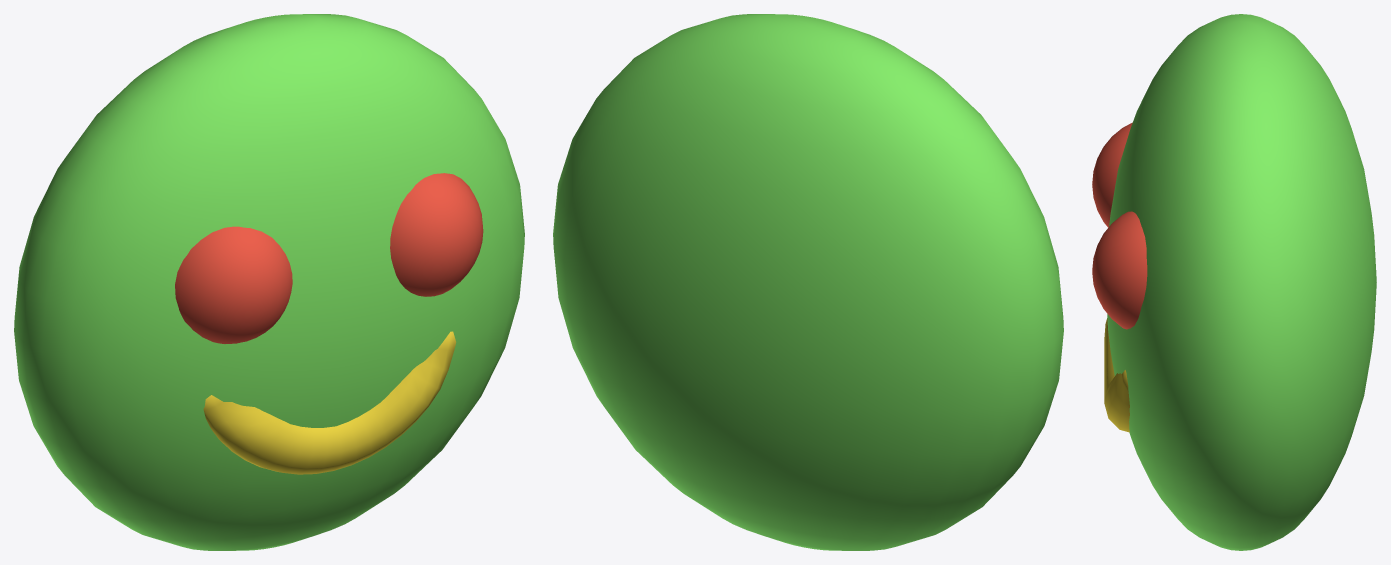
File: smile.glb
The picture shows the model from 3 angles, left to right: view 1: azimuth 30°, elevation 25°; view 2: azimuth 150°, elevation 25°; view 3: azimuth 270°, elevation 25°; orthographic projection. The views are drawn at different scales.
Parts seen in each view (by area): view 1: Sphere; view 2: Sphere; view 3: Sphere.
Part boxes in pixels (x1,y1,x2,y2): Sphere: (14,14,524,550); Sphere: (553,14,1063,550); Sphere: (1092,14,1376,550).
Bounding box in the file's own units: 2 × 2 × 1.06.
